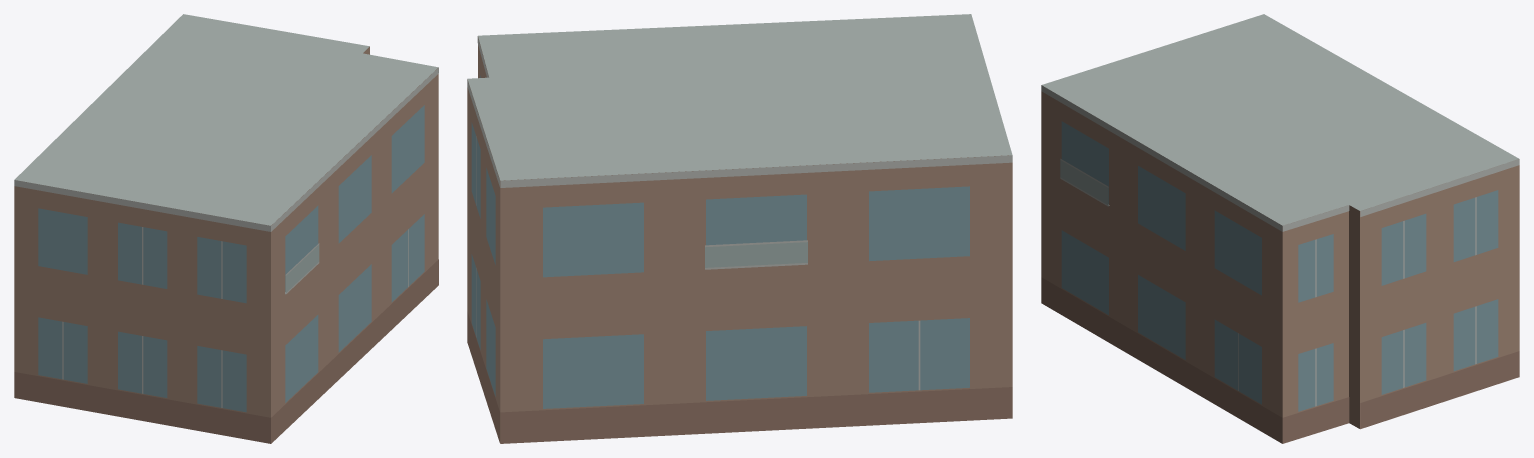
File: survey-upis-32900554.glb
The picture shows the model from 3 angles, left to right: view 1: azimuth 30°, elevation 25°; view 2: azimuth 150°, elevation 25°; view 3: azimuth 270°, elevation 25°; orthographic projection. The views are drawn at different scales.
Visible parts, largest first — view 1: survey-upis-32900554.tmp; view 2: survey-upis-32900554.tmp; view 3: survey-upis-32900554.tmp.
Boxes of the visible parts, x1,y1,x2,y2 form: survey-upis-32900554.tmp: [14, 14, 438, 443]; survey-upis-32900554.tmp: [467, 14, 1012, 443]; survey-upis-32900554.tmp: [1041, 14, 1519, 443].
Bounding box in the file's own units: 17.91 × 8.6 × 17.09.
